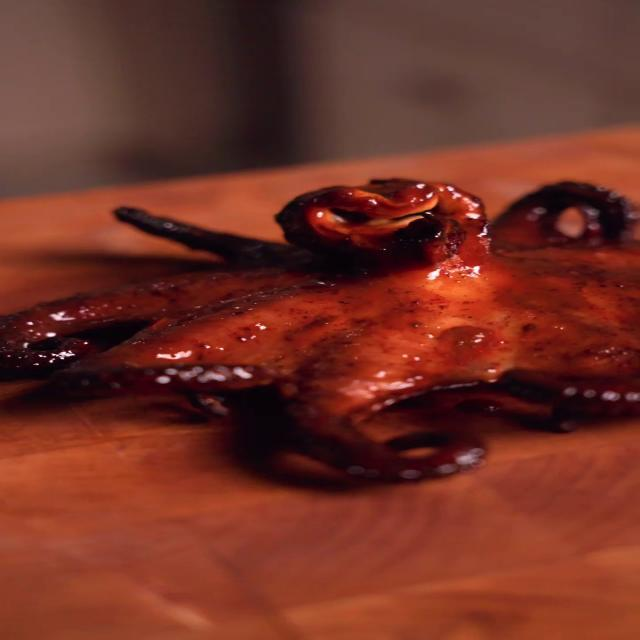octopus: (0, 169, 640, 482)
